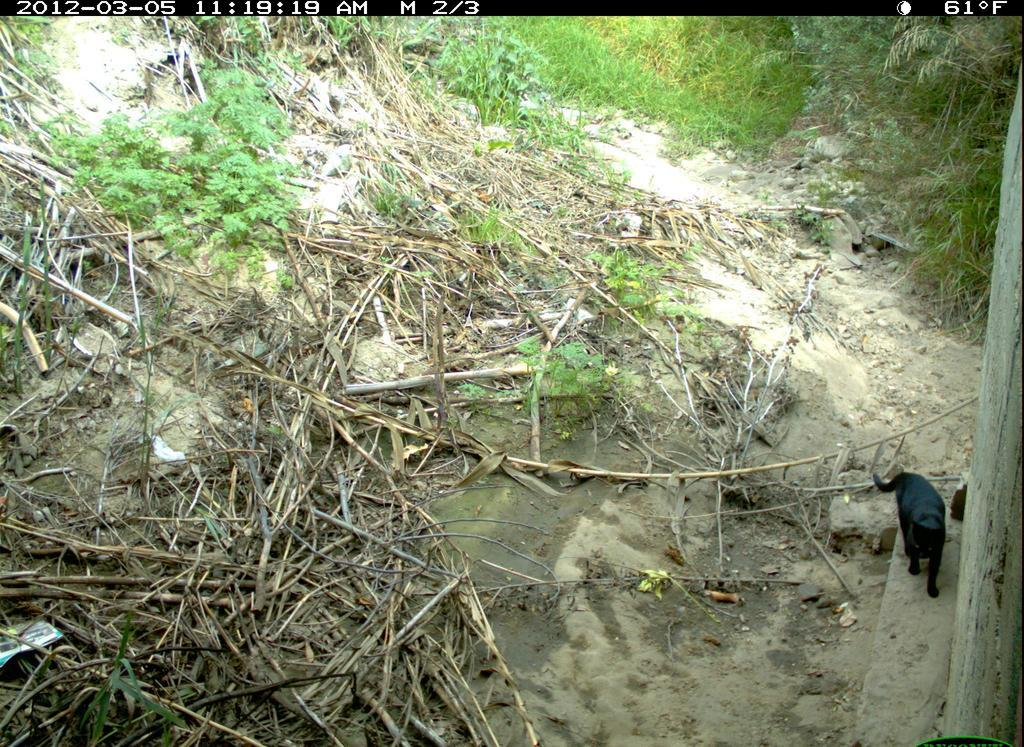cat: (867, 464, 962, 617)
